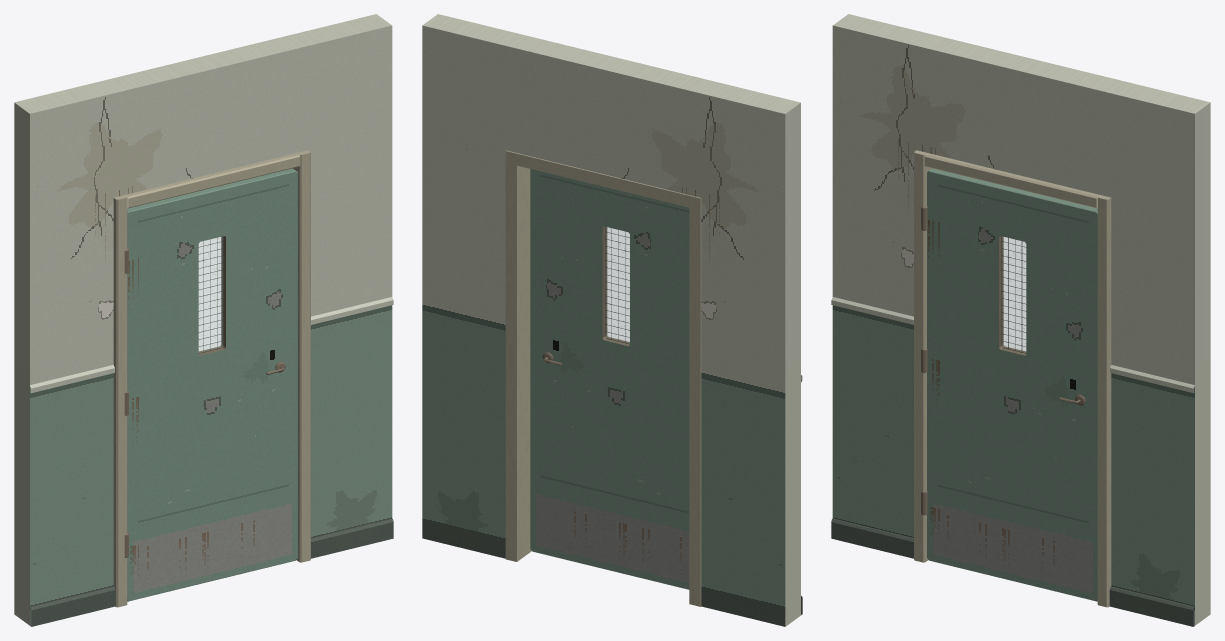
The model's file is door_3b.glb.
3 renders of one model, left to right at view 1: azimuth 30°, elevation 25°; view 2: azimuth 150°, elevation 25°; view 3: azimuth 330°, elevation 25°, orthographic.
Parts seen in each view (by area): view 1: leaf_faces, wall_left, wall_right, wall_lintel, frame_left, frame_right, door_glass, frame_top, leaf_edge, leaf_window_rim; view 2: leaf_faces, wall_left, wall_right, wall_lintel, frame_right, frame_left, door_glass, frame_top, leaf_window_rim, leaf_edge; view 3: leaf_faces, wall_right, wall_left, wall_lintel, frame_right, frame_left, door_glass, frame_top, leaf_edge, leaf_window_rim.
Part boxes in pixels (box(x1,y1,x2,y2)): leaf_faces: box(127, 171, 297, 600); wall_left: box(14, 81, 115, 626); wall_right: box(291, 14, 393, 558); wall_lintel: box(100, 35, 305, 196); frame_left: box(113, 195, 127, 607); frame_right: box(293, 150, 310, 562); door_glass: box(198, 236, 223, 353); frame_top: box(125, 153, 300, 208); leaf_edge: box(127, 168, 297, 601); leaf_window_rim: box(198, 236, 225, 355); leaf_faces: box(530, 169, 689, 589); wall_left: box(699, 81, 802, 626); wall_right: box(422, 14, 523, 558); wall_lintel: box(508, 35, 714, 197); frame_right: box(505, 150, 531, 561); frame_left: box(689, 195, 701, 606); door_glass: box(605, 226, 629, 344); frame_top: box(517, 153, 689, 207); leaf_window_rim: box(602, 226, 629, 346); leaf_edge: box(530, 169, 688, 589); leaf_faces: box(927, 171, 1097, 600); wall_right: box(1109, 81, 1210, 626); wall_left: box(831, 14, 933, 558); wall_lintel: box(919, 35, 1124, 196); frame_right: box(1097, 195, 1111, 607); frame_left: box(914, 150, 931, 562); door_glass: box(1001, 236, 1026, 353); frame_top: box(924, 153, 1099, 208); leaf_edge: box(927, 168, 1097, 601); leaf_window_rim: box(999, 236, 1026, 355).
Size of the model in its own units: 2 by 2.7 by 0.2094.
2 materials, 2 textured.
